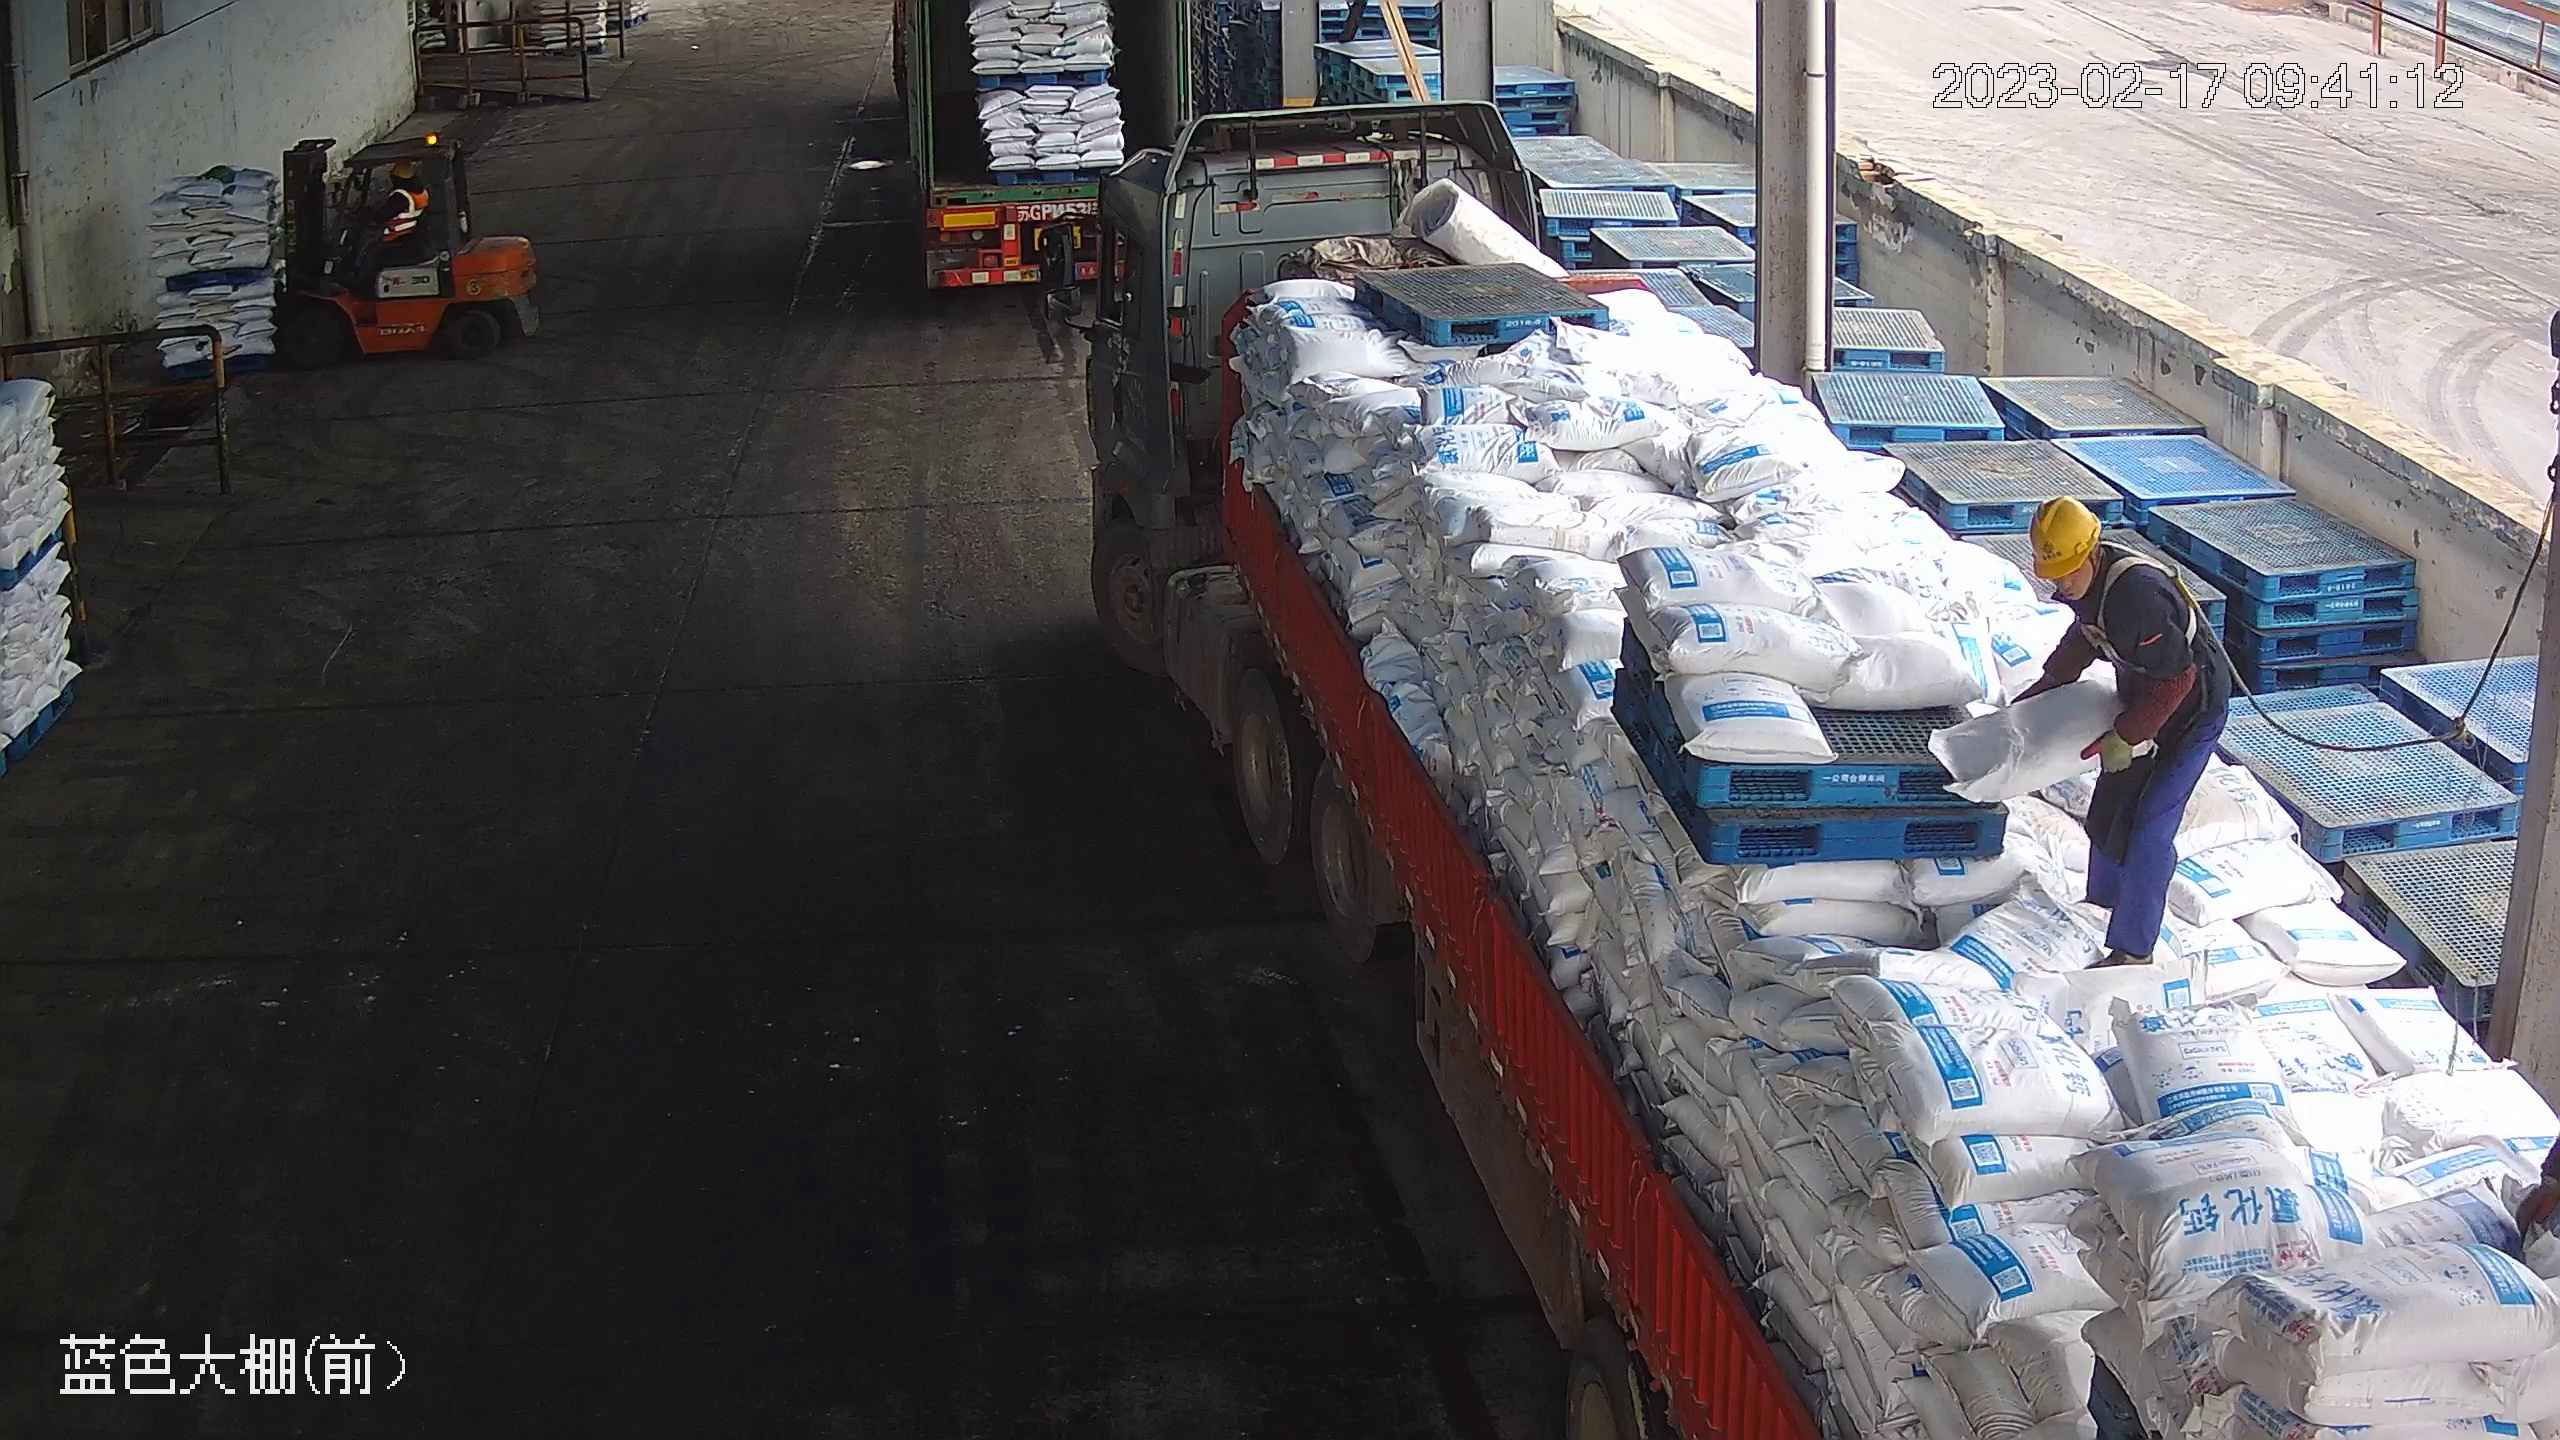belt: (2084, 553, 2206, 656)
head: (2027, 495, 2172, 639), (381, 161, 424, 212)
helmet: (2027, 492, 2105, 578), (392, 159, 415, 176)
people: (2011, 495, 2232, 970)
truck: (1034, 99, 2555, 1439), (891, 1, 1184, 292)
